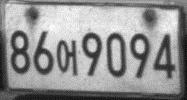0: (106, 33, 126, 76)
4: (152, 34, 176, 80)
6: (33, 30, 55, 76)
8: (10, 29, 30, 74)
9: (128, 33, 151, 79), (81, 31, 102, 78)
어: (56, 39, 78, 77)
